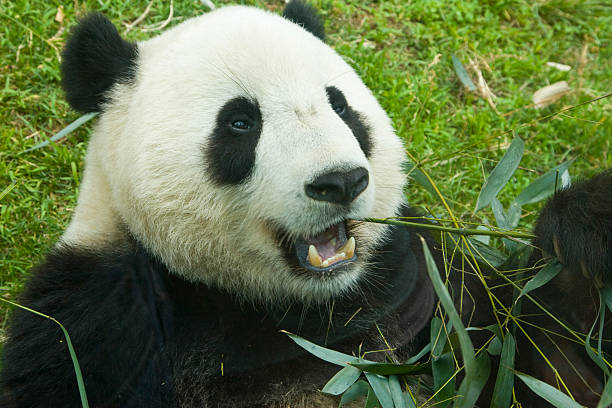panda: (56, 4, 421, 313)
